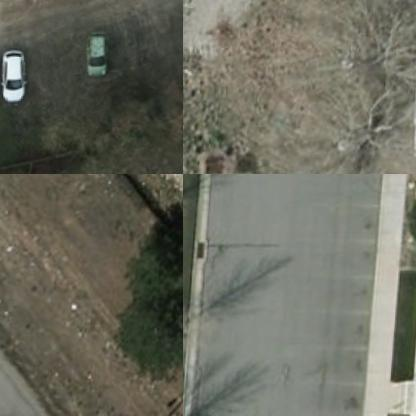camping car: (399, 0, 415, 159)
car: (79, 24, 114, 80), (0, 47, 28, 104)
